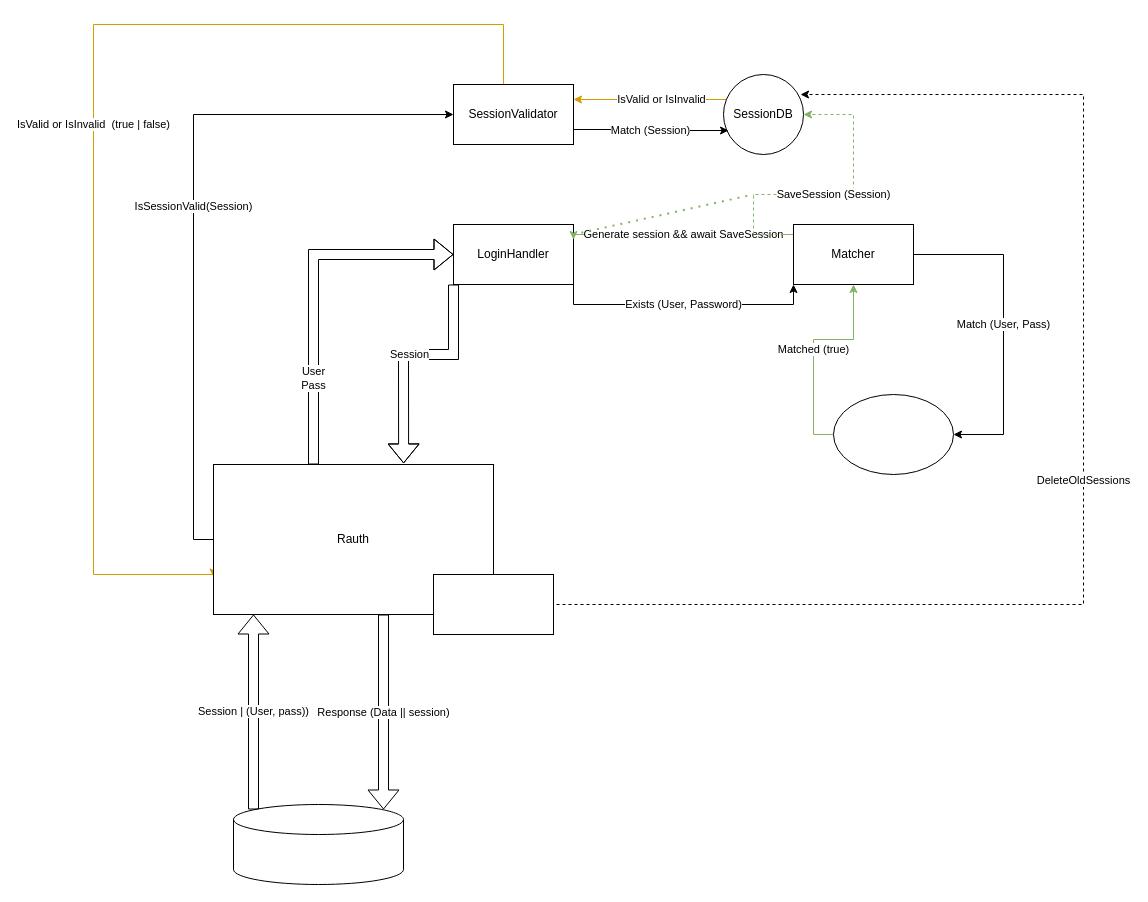
This 1148x902 diagram has some shape labels left out. Here are the shapes that lost their labels. From the top down, the centre of each, then its label:
[893,434]: DB
[493,604]: SessionManager
[318,844]: Client
